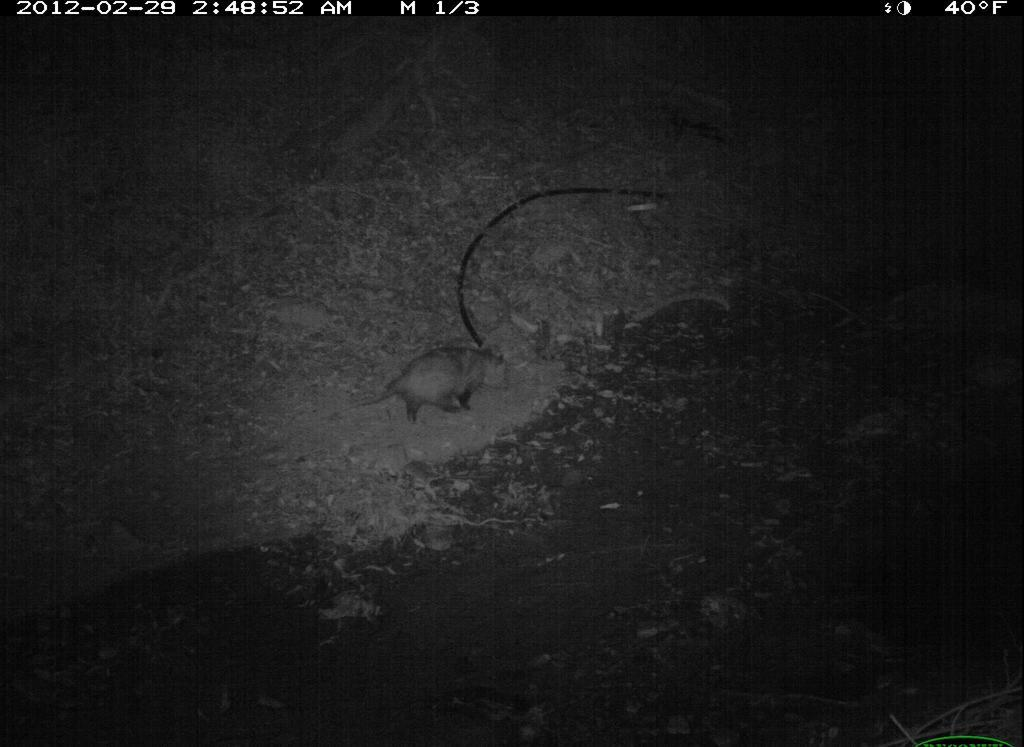opossum: (326, 337, 528, 428)
